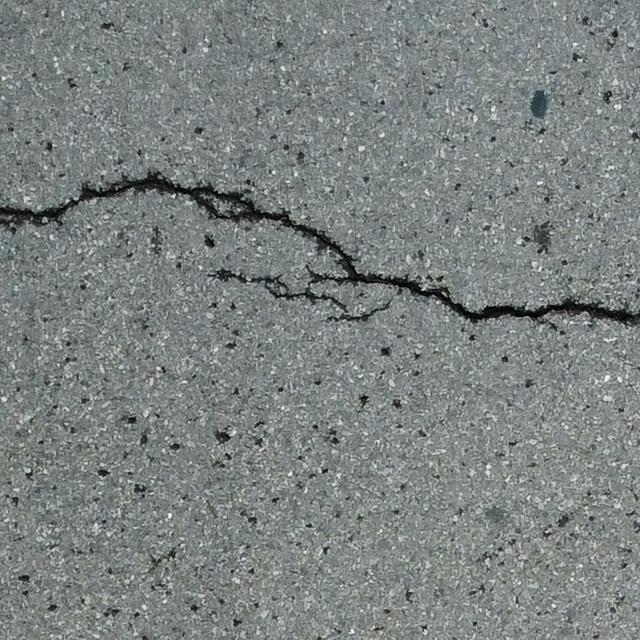TransverseCrack: (1, 171, 640, 336)
